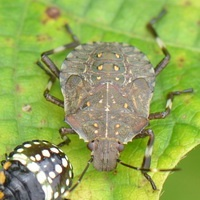insect: (42, 42, 168, 170), (0, 140, 72, 199)
